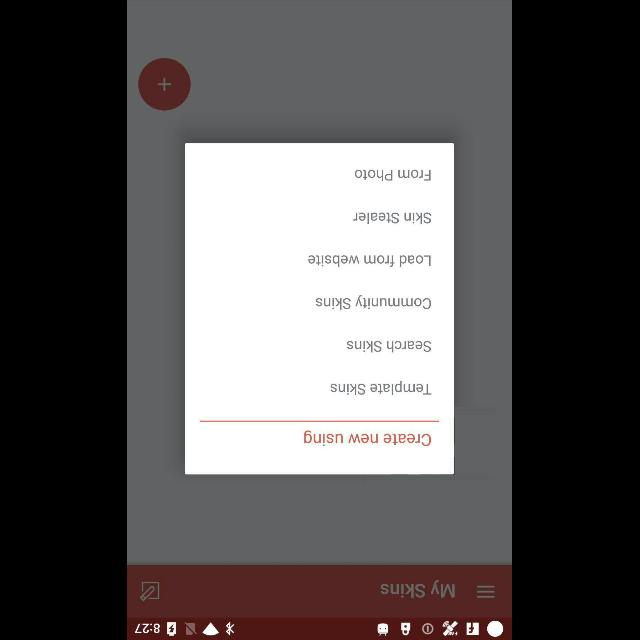button: (138, 58, 192, 110)
icon: (140, 581, 160, 601), (477, 584, 495, 598)
panel: (185, 143, 455, 474)
text: (304, 430, 432, 446), (316, 294, 432, 310), (332, 380, 432, 396), (308, 255, 432, 267), (382, 580, 456, 598), (348, 341, 432, 353), (353, 212, 432, 224), (354, 169, 432, 181)
uppertaskbar: (128, 617, 512, 639)
